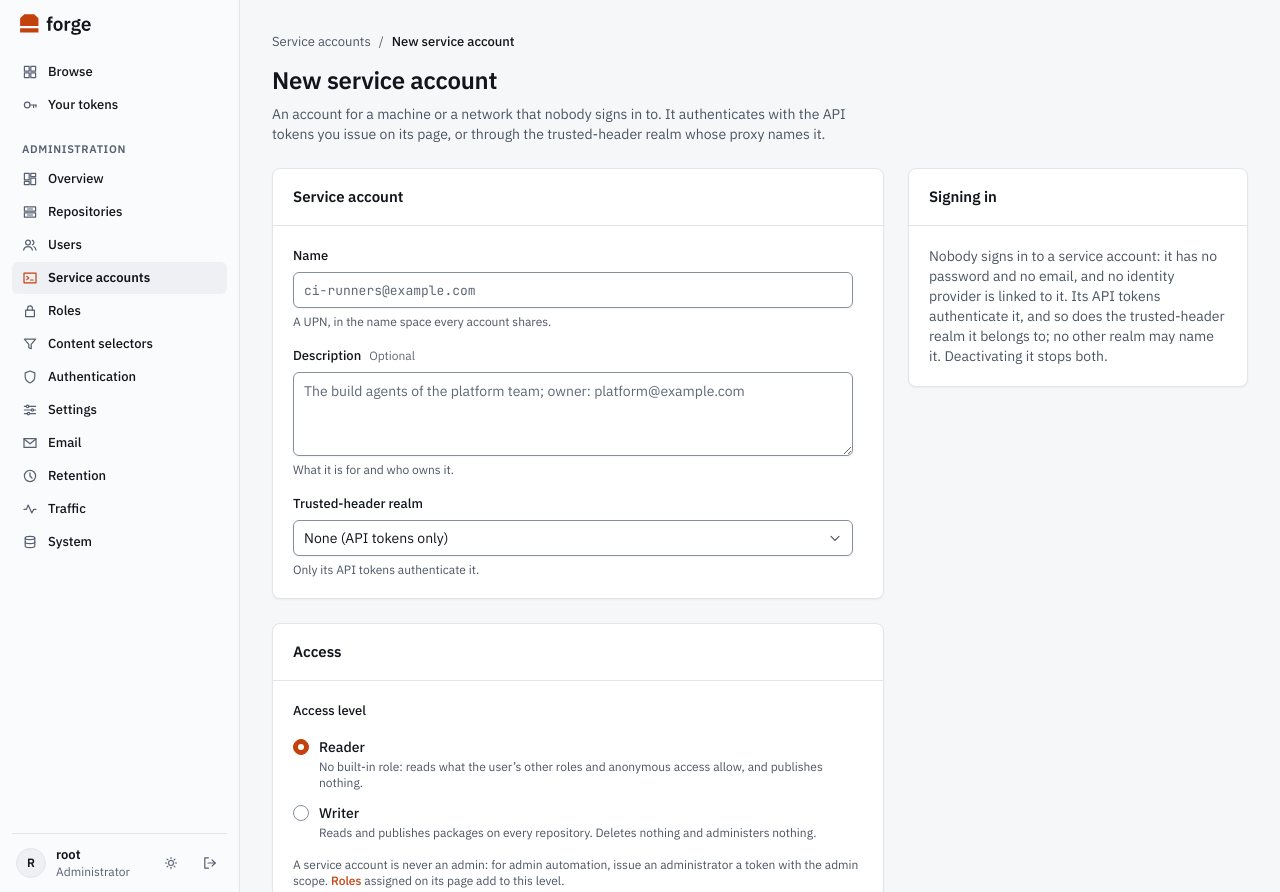
Test: admin service accounts › creates a service account with its description, realm and access level
Type "builds" into the field labelled "Name" at (573, 290), box top-left (293, 272), bottom-right (853, 308)
Press Tab
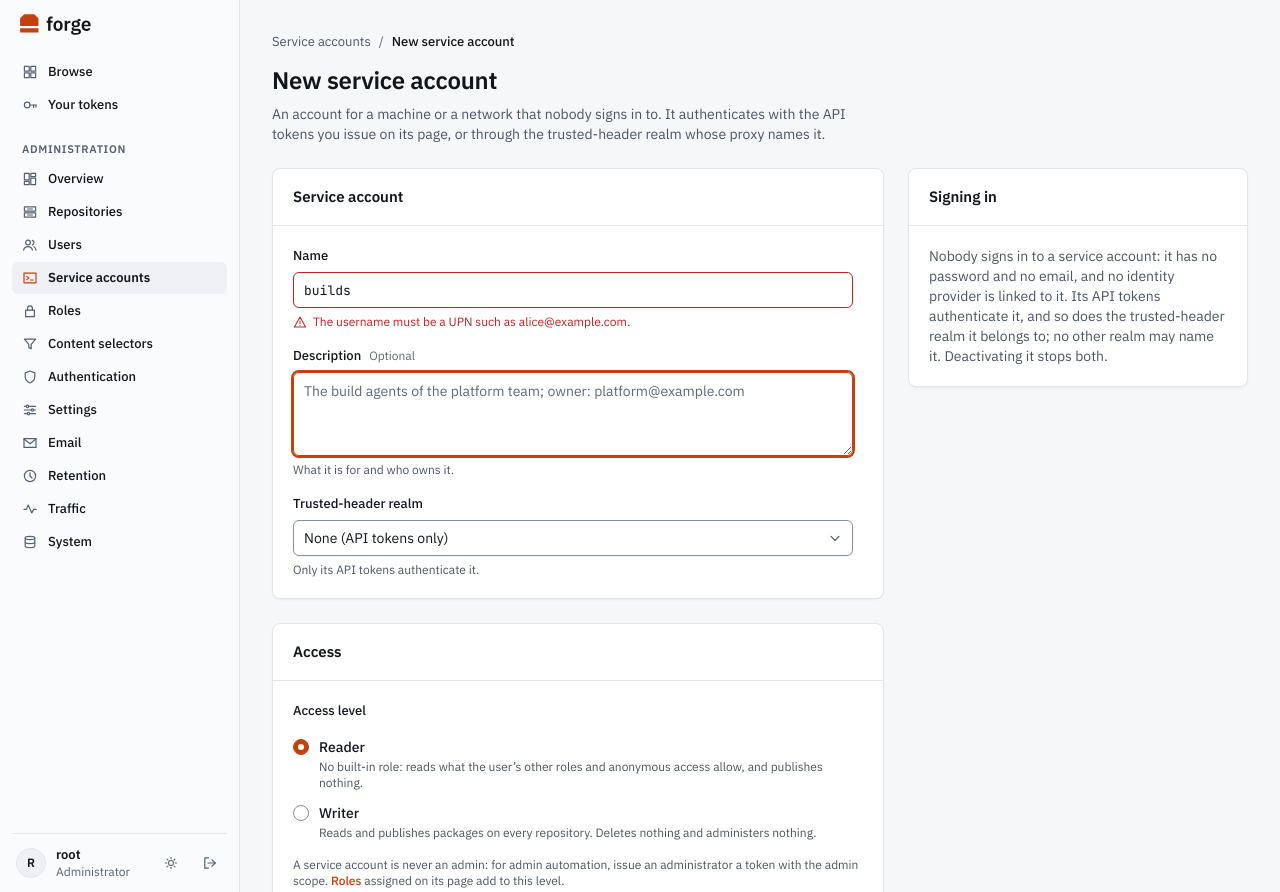
Now the text "The username must be a UPN such as alice@example.com." is shown, box top-left (313, 314), bottom-right (630, 330)
Replace the text in the field labelled "Name" with "builds@example.com" at (573, 290), box top-left (293, 272), bottom-right (853, 308)
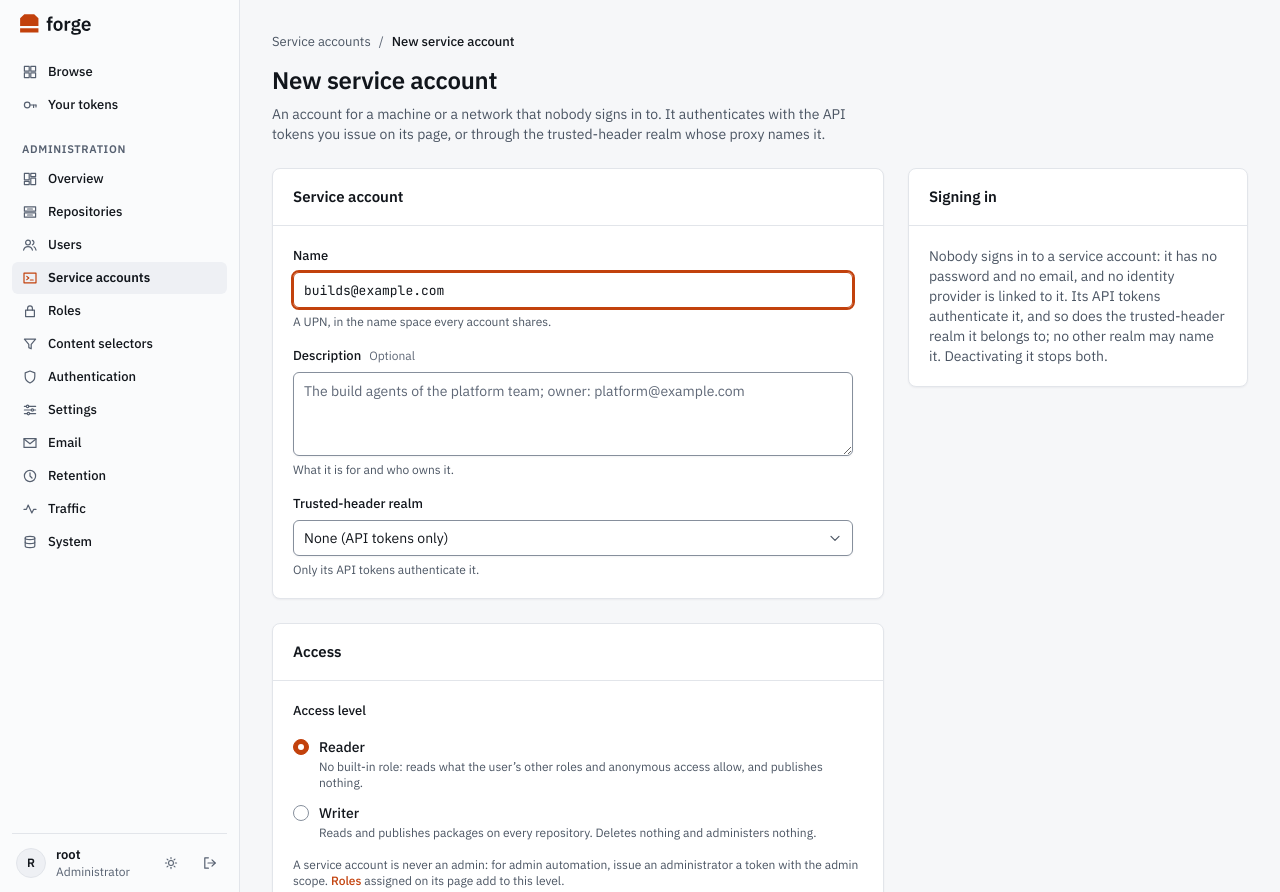
Type "Build agents; owner: platform" into the text box labelled "Description Optional" at (573, 414), box top-left (293, 372), bottom-right (853, 456)
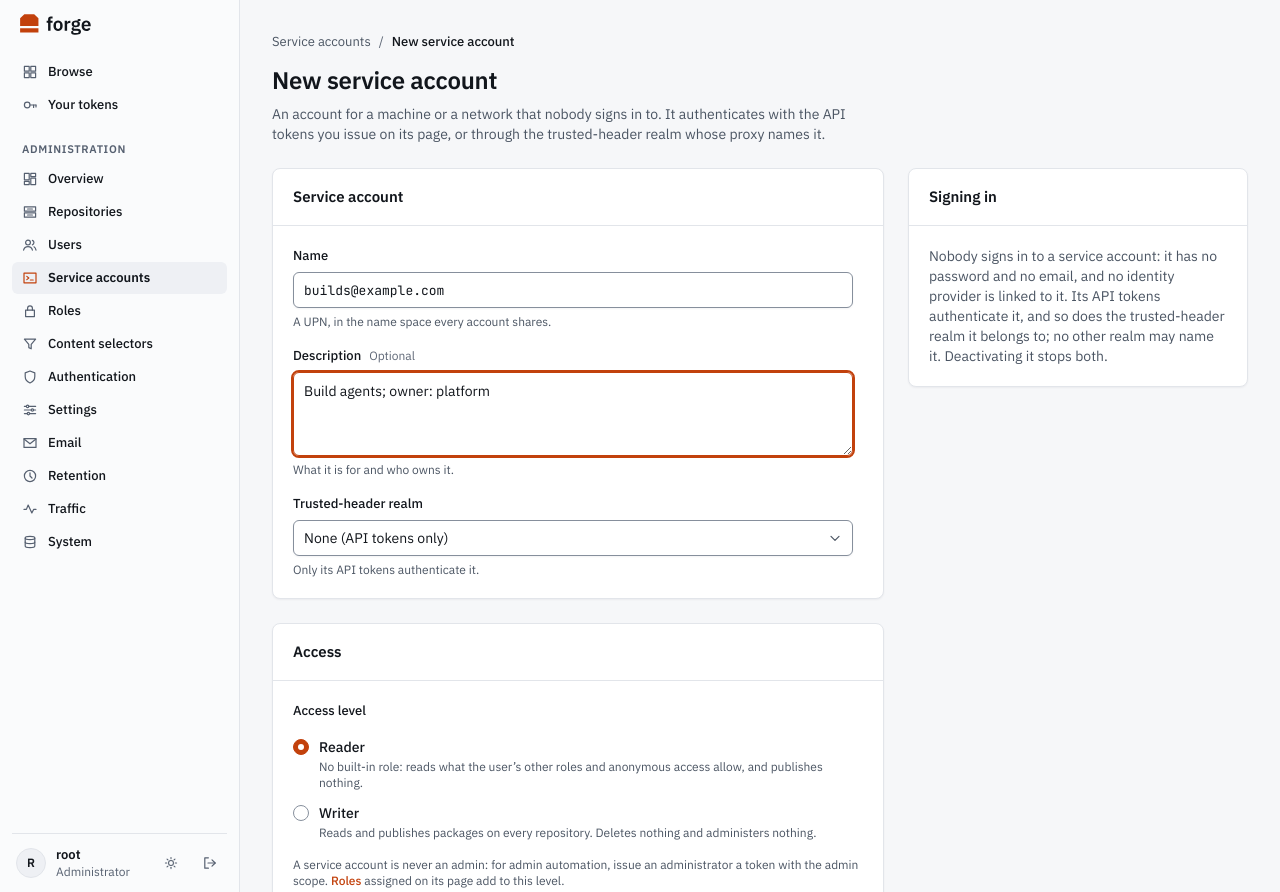
Select "edge-lb" in the dropdown labelled "Trusted-header realm" at (573, 538), box top-left (293, 520), bottom-right (853, 556)
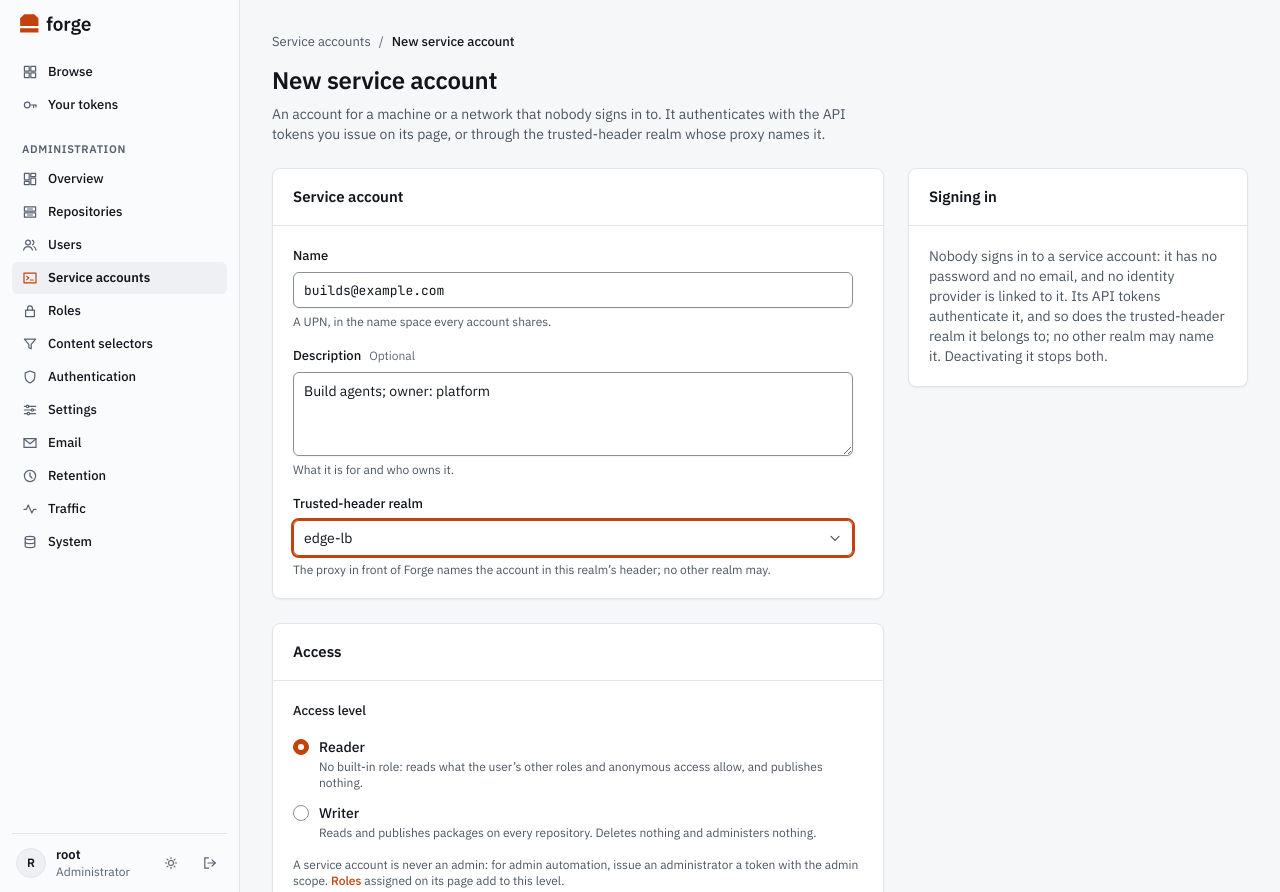
Click the radio button labelled "Writer" at (339, 813), box top-left (319, 804), bottom-right (359, 822)
(page scrolled)
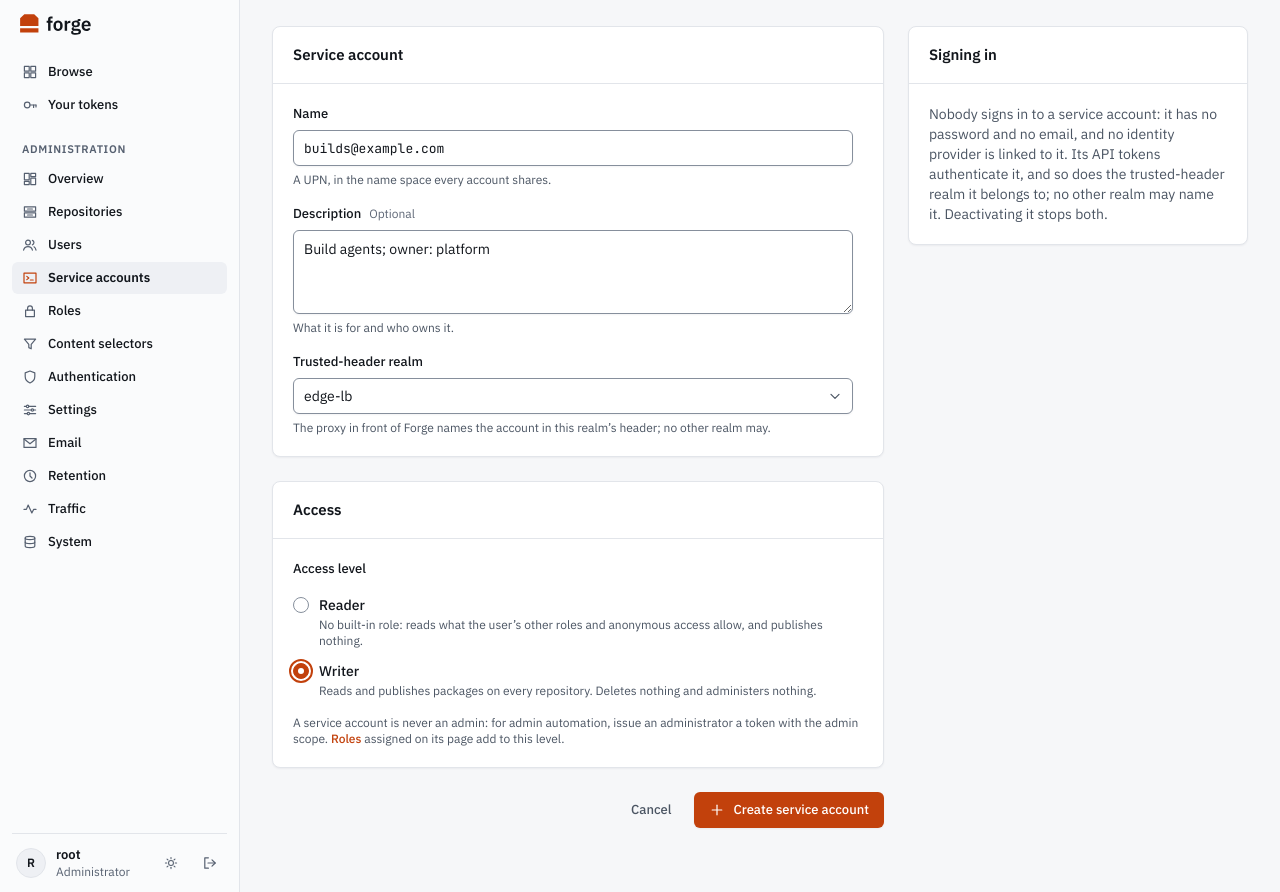
Click the button "Create service account" at (789, 810), box top-left (694, 792), bottom-right (884, 828)
(page scrolled)
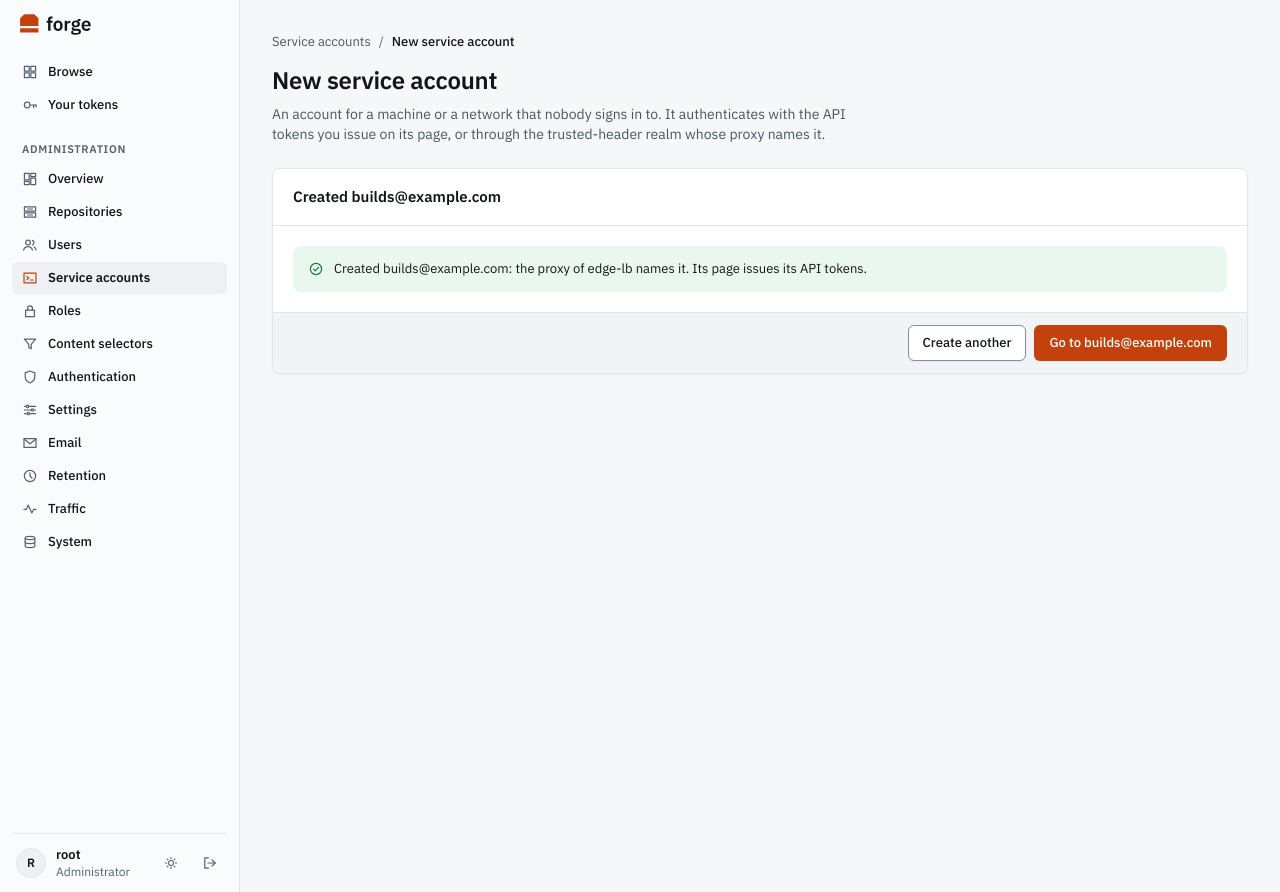
Now the text "the proxy of edge-lb names it" is shown, box top-left (334, 260), bottom-right (867, 277)
